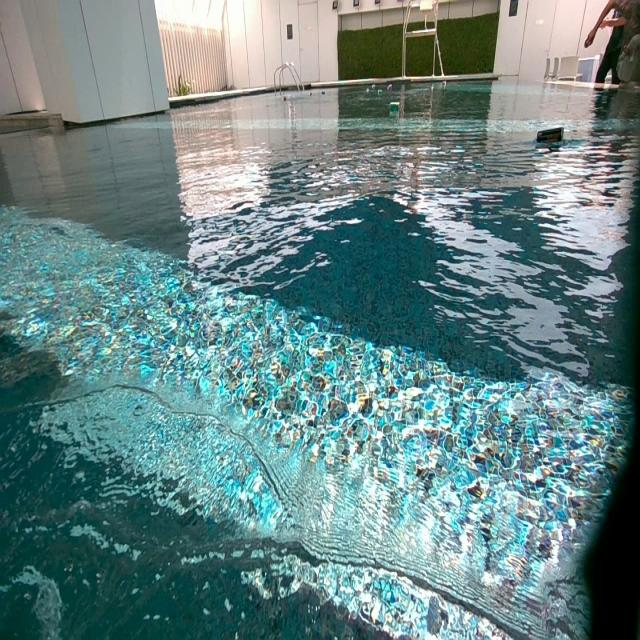Cans: (535, 127, 563, 144), (389, 102, 399, 112), (282, 96, 290, 104), (387, 82, 393, 90), (377, 90, 383, 96), (371, 83, 376, 90), (321, 90, 326, 96), (442, 81, 446, 88), (366, 87, 370, 94), (308, 92, 312, 96)
